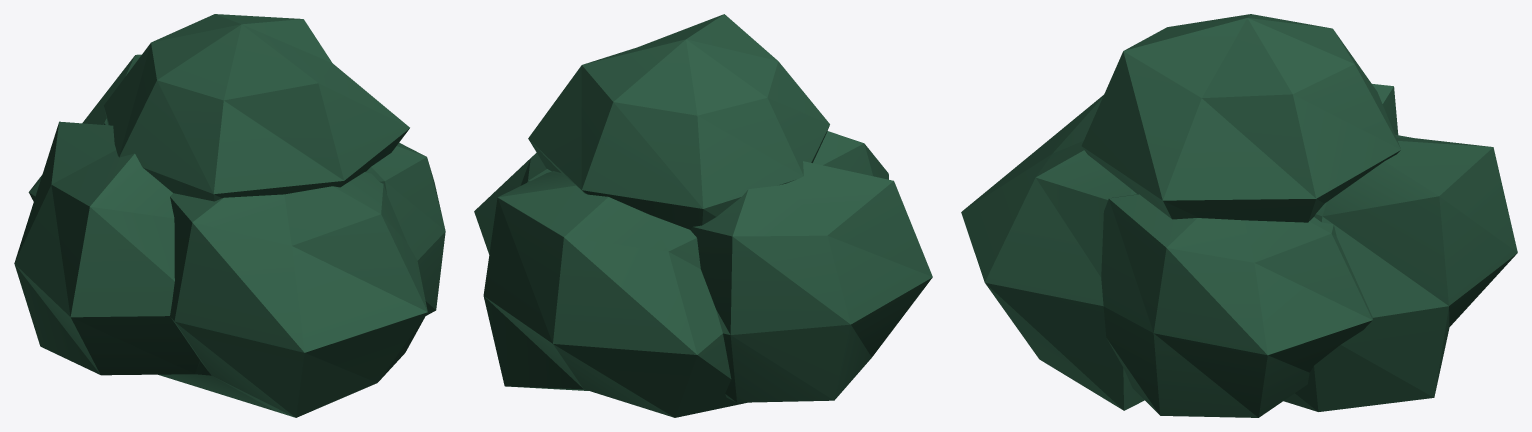
File: holly_2.glb
The picture shows the model from 3 angles, left to right: view 1: azimuth 30°, elevation 25°; view 2: azimuth 150°, elevation 25°; view 3: azimuth 270°, elevation 25°; orthographic projection. The views are drawn at different scales.
Parts seen in each view (by area): view 1: holly_2; view 2: holly_2; view 3: holly_2.
Boxes of the visible parts, x1,y1,x2,y2 form: holly_2: (14,14,445,417); holly_2: (474,14,932,417); holly_2: (961,14,1517,417).
Size of the model in its own units: 1.26 by 1.03 by 1.37.
